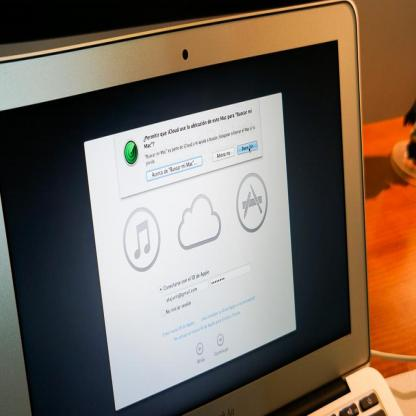board: (0, 3, 403, 415)
